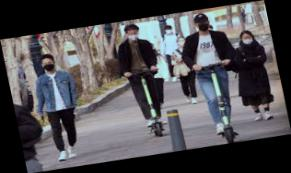nonhelmet: (174, 9, 253, 148), (110, 20, 173, 139)
